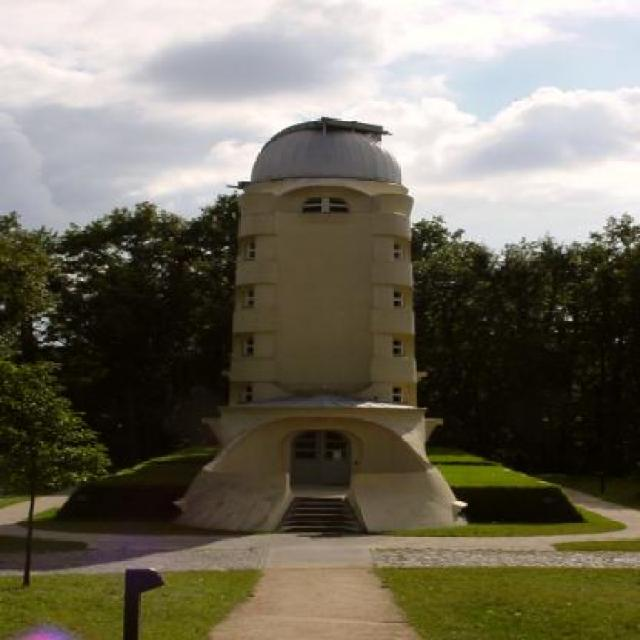stair: (274, 495, 372, 540)
